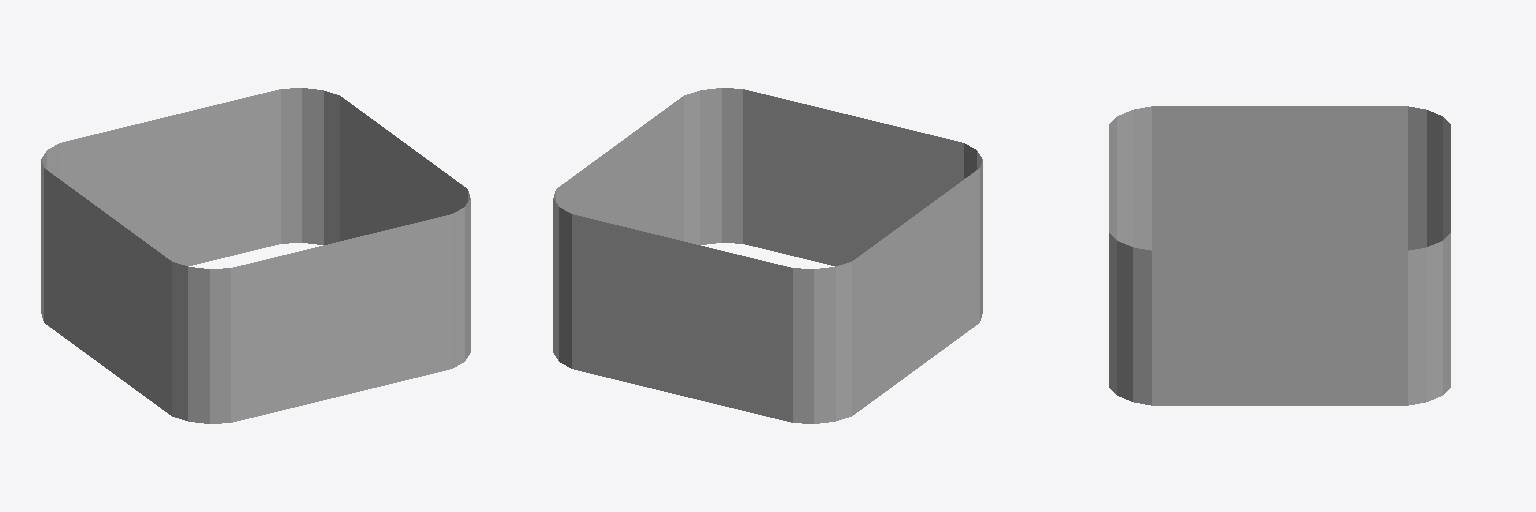
The model's file is Zone1.obj.
The picture shows the model from 3 angles: view 1: azimuth 30°, elevation 25°; view 2: azimuth 150°, elevation 25°; view 3: azimuth 270°, elevation 25°; orthographic projection.
Parts seen in each view (by area): view 1: Cube; view 2: Cube; view 3: Cube.
Boxes of the visible parts, <box> form: Cube: <box>41,88,470,423</box>; Cube: <box>553,88,982,423</box>; Cube: <box>1109,106,1450,405</box>.
Size of the model in its own units: 2 by 1 by 2.